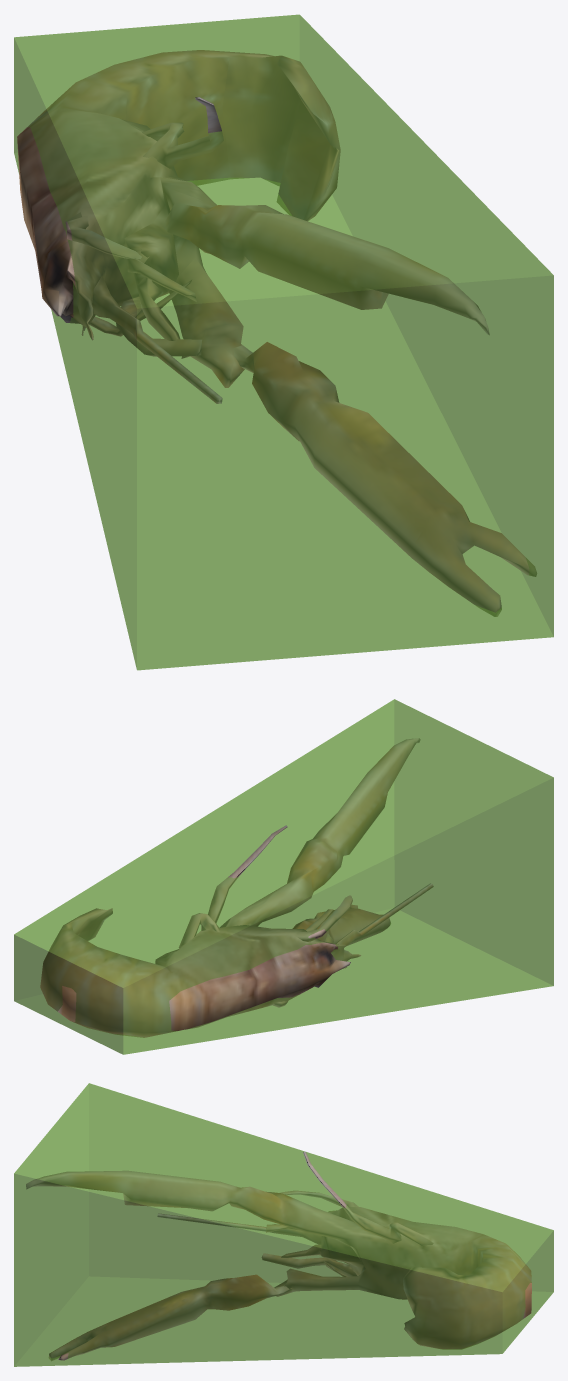
File: pg_Crayfish_01.fbx
3 renders of one model, top to bottom at view 1: azimuth 30°, elevation 25°; view 2: azimuth 150°, elevation 25°; view 3: azimuth 270°, elevation 25°, orthographic. The views are drawn at different scales.
Visible parts, largest first — view 1: pg_Crayfish_01_a_col, pg_Crayfish_01_a_LOD0; view 2: pg_Crayfish_01_a_col, pg_Crayfish_01_a_LOD0; view 3: pg_Crayfish_01_a_col, pg_Crayfish_01_a_LOD0.
Boxes of the visible parts, x1=… form: pg_Crayfish_01_a_col: x1=14, y1=14, x2=553, y2=670; pg_Crayfish_01_a_LOD0: x1=17, y1=50, x2=536, y2=616; pg_Crayfish_01_a_col: x1=14, y1=699, x2=553, y2=1054; pg_Crayfish_01_a_LOD0: x1=40, y1=738, x2=433, y2=1037; pg_Crayfish_01_a_col: x1=14, y1=1083, x2=553, y2=1366; pg_Crayfish_01_a_LOD0: x1=26, y1=1151, x2=531, y2=1360.
Size of what is drawn, in the model's own units: 9.09 by 5.72 by 14.47.
